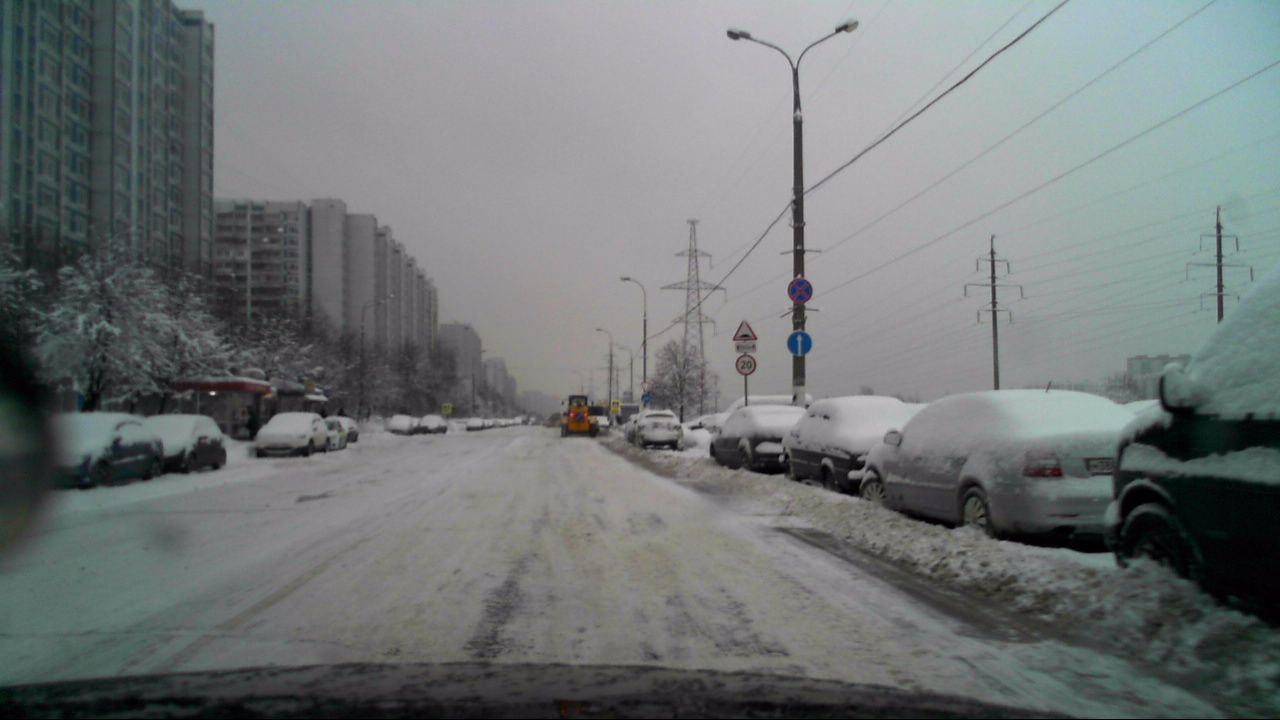No Parking: (786, 275, 814, 305)
